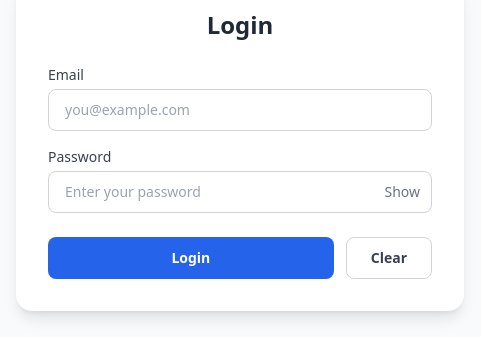
Test: LoginForm › clear button resets all fields and errors
Type "test@test.com" into the field labelled "Email" at (240, 110), box 48,89 -> 432,131
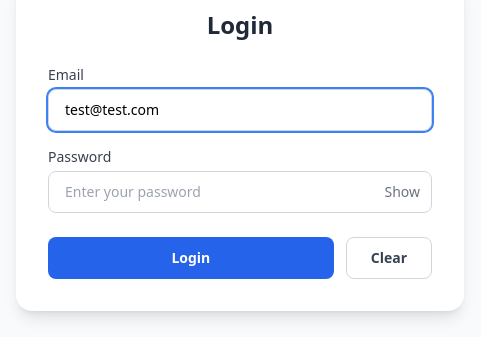
Type "mypassword" into the password field labelled "Password" at (240, 192), box 48,171 -> 432,213
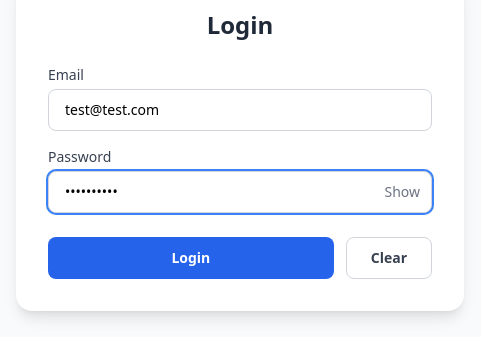
Click the button "Clear" at (389, 258), box 346,237 -> 432,279
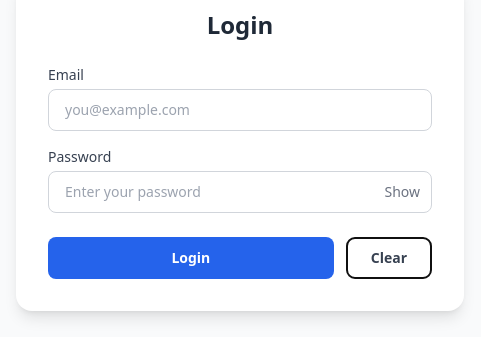
Now the field labelled "Email" is empty, box 48,89 -> 432,131
Now the password field labelled "Password" is empty, box 48,171 -> 432,213
